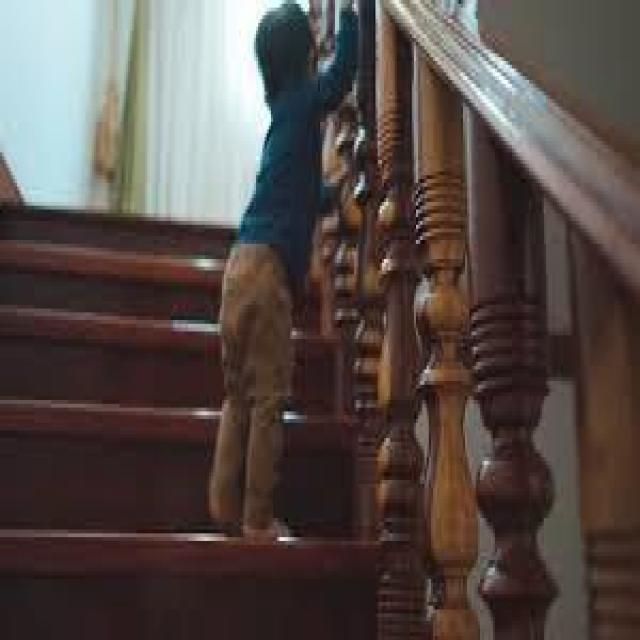child: (200, 8, 365, 548)
